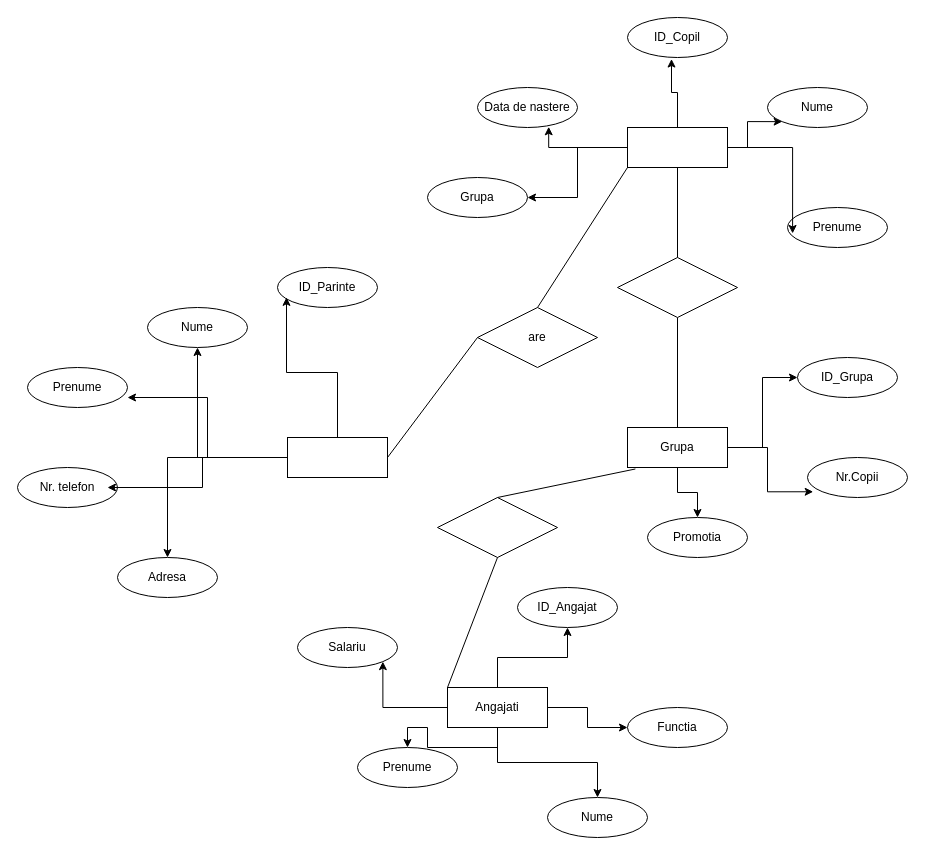
Some shapes in this 925 by 855 pixel diagram are drawn without their labels. Each missing label, with the box of its shape:
Copii: (626, 126, 728, 168)
is in: (616, 256, 738, 318)
Parinti: (286, 436, 388, 478)
Relationship: (436, 496, 558, 558)
